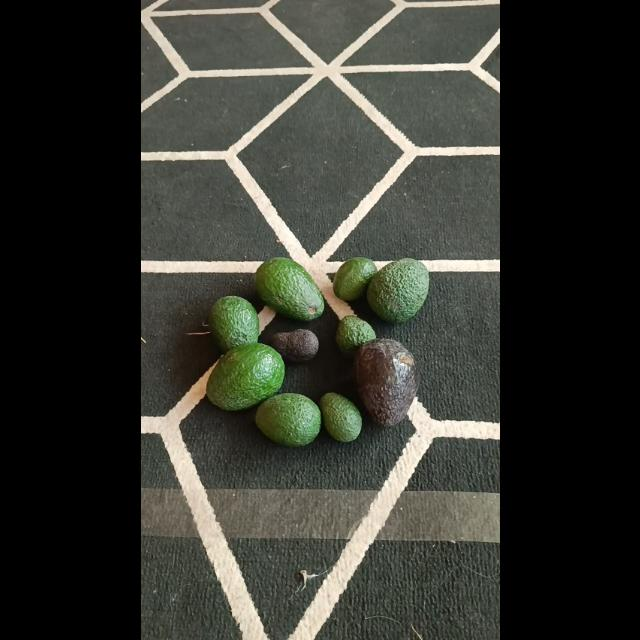Primera: (353, 338, 419, 424), (204, 342, 284, 411), (252, 256, 324, 320), (366, 258, 428, 322)
Segunda: (252, 392, 320, 446), (208, 295, 258, 351)
Tercera: (318, 391, 362, 441), (332, 255, 378, 301), (268, 328, 318, 362), (334, 314, 376, 354)
